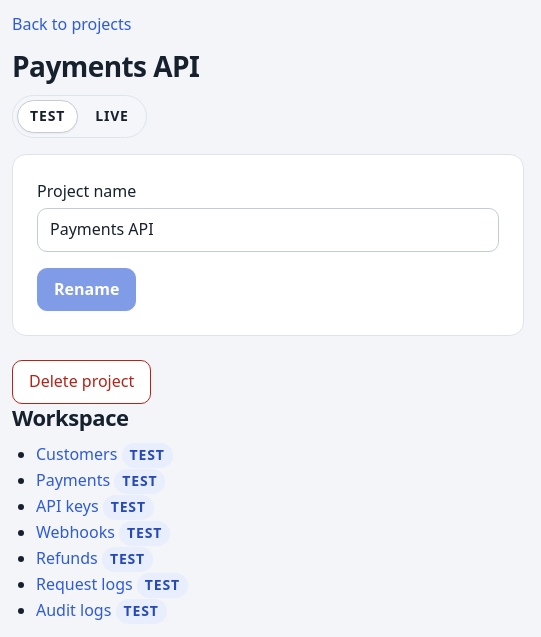
project shell page (phase 5 §5.1/§5.3) › renames the project through the form
The image size is (541, 637).
Expected: the heading "Payments API" is shown, [12,47,199,85]
Replace the text in the field labelled "Project name" with "Checkout API" at (268, 230), box [37,208,499,252]
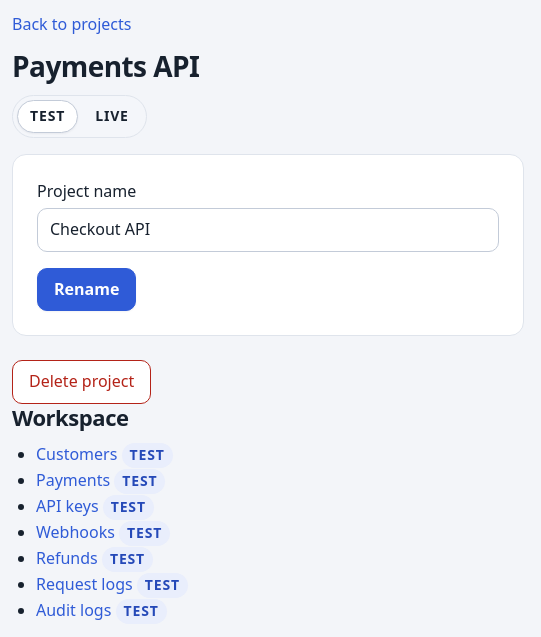
Click the button "Rename" at (87, 290), box [37,268,136,311]
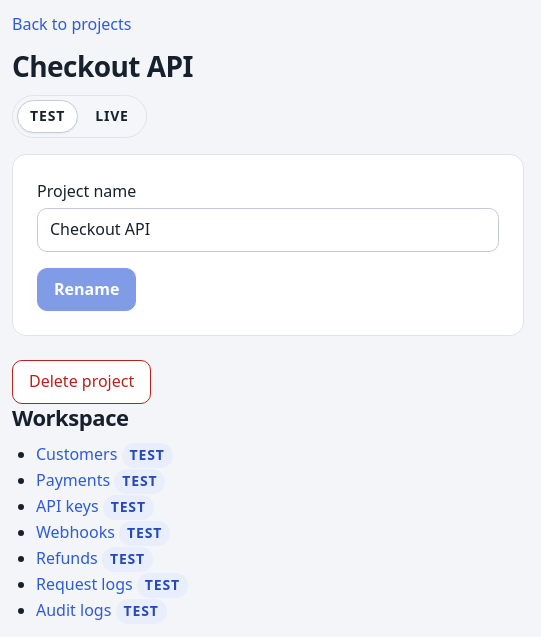
Expected: the heading "Checkout API" is shown, [12,47,193,85]
